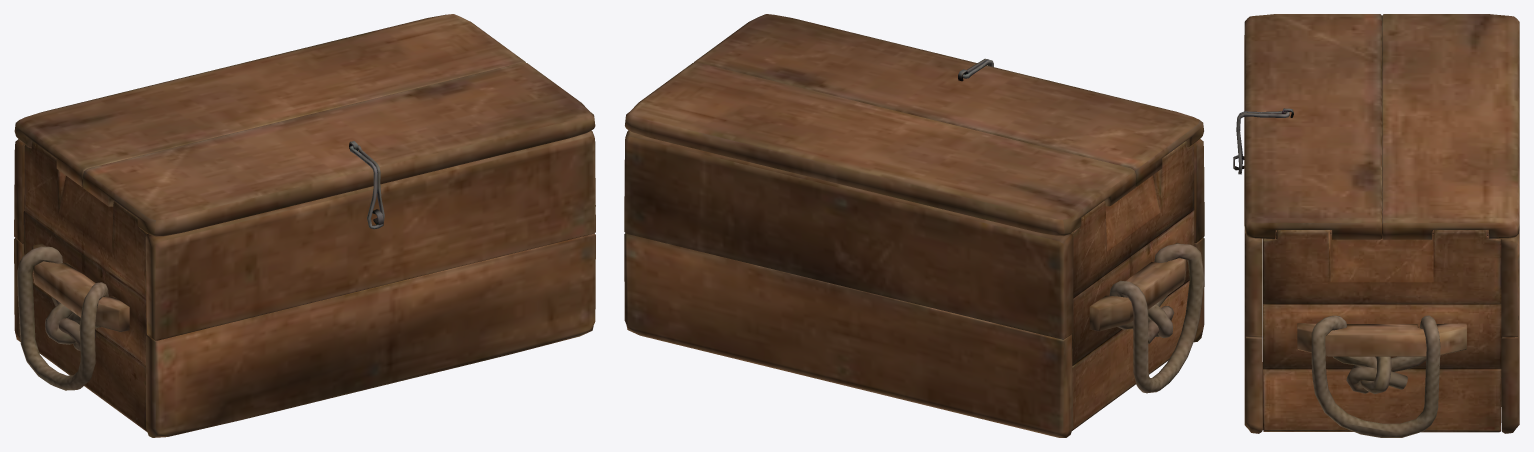
Rendered from wooden_crate_01.glb.
3 renders of one model, left to right at view 1: azimuth 30°, elevation 25°; view 2: azimuth 150°, elevation 25°; view 3: azimuth 270°, elevation 25°, orthographic. The views are drawn at different scales.
Parts seen in each view (by area): view 1: wooden_crate, wooden_crate_01_lid, wooden_crate_01_latch; view 2: wooden_crate, wooden_crate_01_lid; view 3: wooden_crate_01_lid, wooden_crate, wooden_crate_01_latch.
Boxes of the visible parts, x1,y1,x2,y2 form: wooden_crate: [14, 130, 595, 437]; wooden_crate_01_lid: [14, 14, 595, 236]; wooden_crate_01_latch: [350, 145, 384, 229]; wooden_crate: [624, 130, 1204, 437]; wooden_crate_01_lid: [625, 14, 1203, 236]; wooden_crate_01_lid: [1244, 14, 1519, 239]; wooden_crate: [1233, 155, 1519, 437]; wooden_crate_01_latch: [1236, 111, 1289, 174].
Bounding box in the file's own units: 0.8253 × 0.3495 × 0.4072.
1 material, 1 textured.
